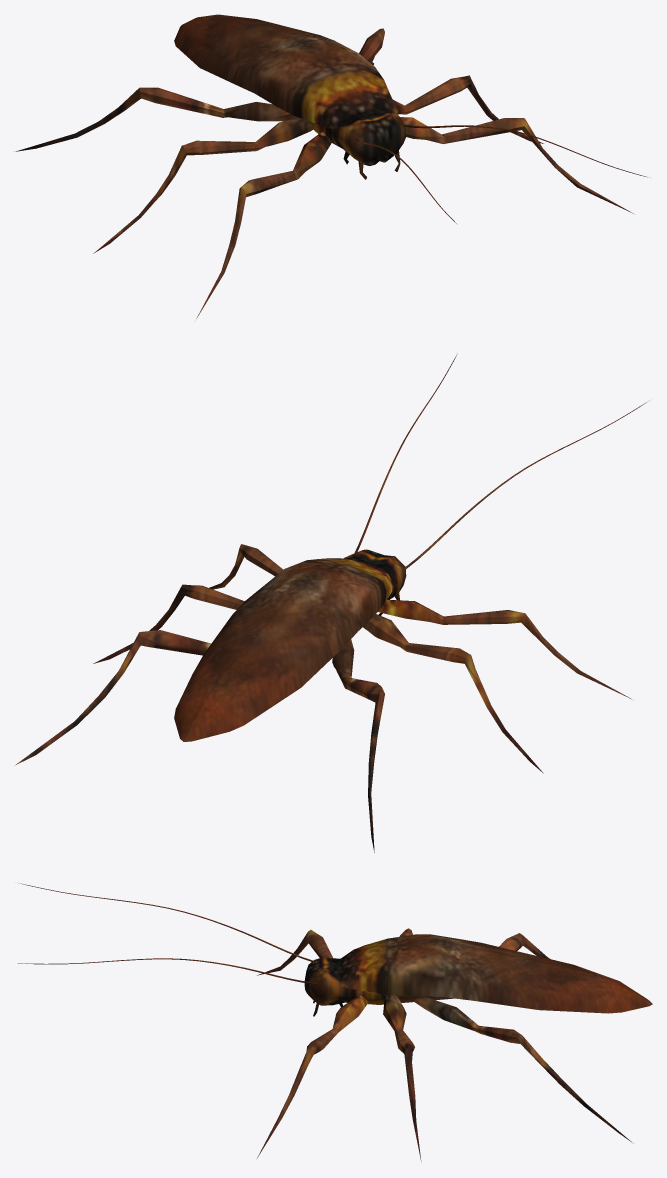
Rendered from MOD_Roach.obj.
3 views of the same model, one above another, from view 1: azimuth 30°, elevation 25°; view 2: azimuth 150°, elevation 25°; view 3: azimuth 270°, elevation 25° (orthographic). The views are drawn at different scales.
Visible parts, largest first — view 1: MOD_Roach; view 2: MOD_Roach; view 3: MOD_Roach.
Boxes of the visible parts, box(x1,y1,x2,y2) form: MOD_Roach: box(14, 14, 647, 318); MOD_Roach: box(15, 353, 649, 852); MOD_Roach: box(18, 883, 652, 1161).
Size of the model in its own units: 107 by 38.57 by 152.
